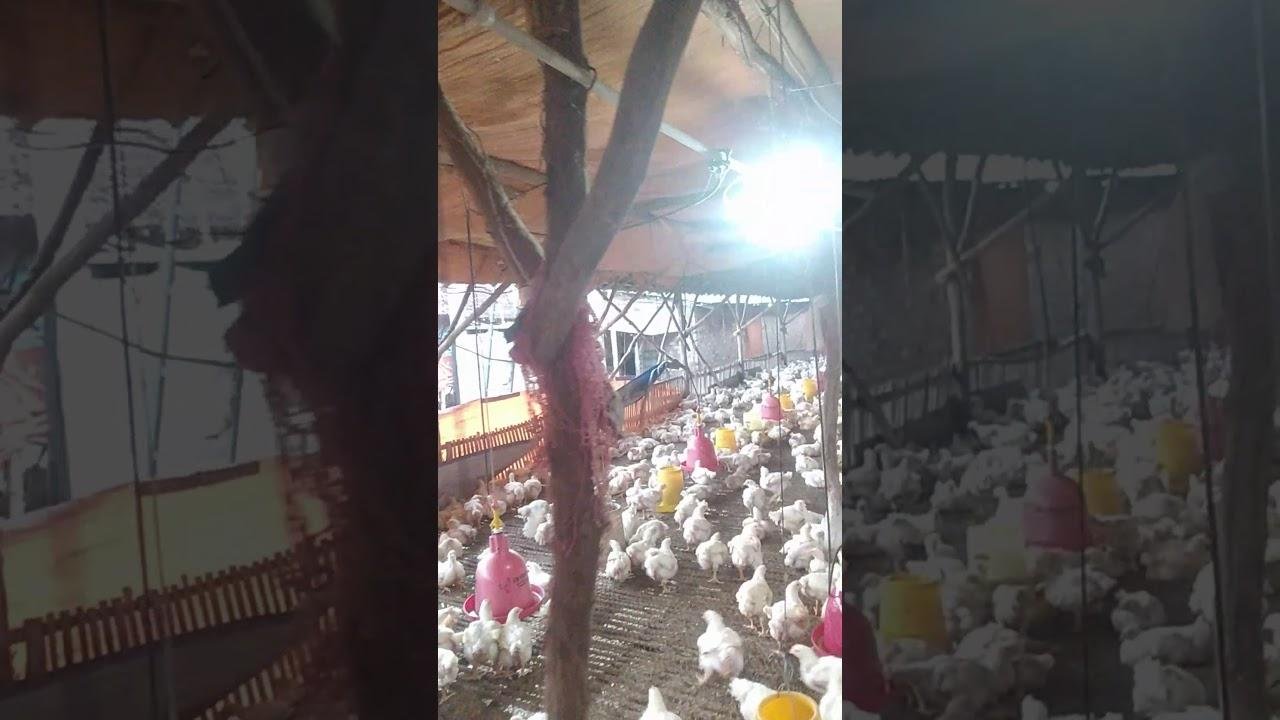chicken: (698, 610, 744, 677), (767, 582, 810, 648), (739, 564, 772, 630), (464, 600, 497, 664), (501, 607, 532, 671), (730, 521, 764, 577), (646, 538, 678, 593), (696, 532, 727, 584), (759, 465, 793, 502), (606, 539, 631, 579), (689, 501, 713, 542), (741, 478, 765, 512)
